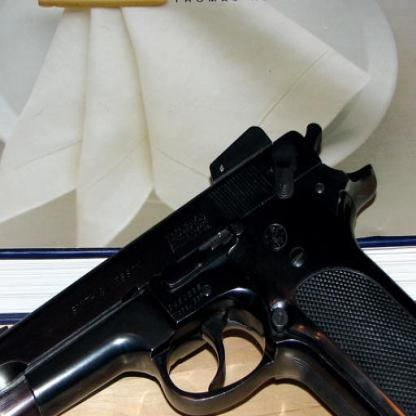gun: (0, 120, 415, 415), (0, 123, 415, 415)
